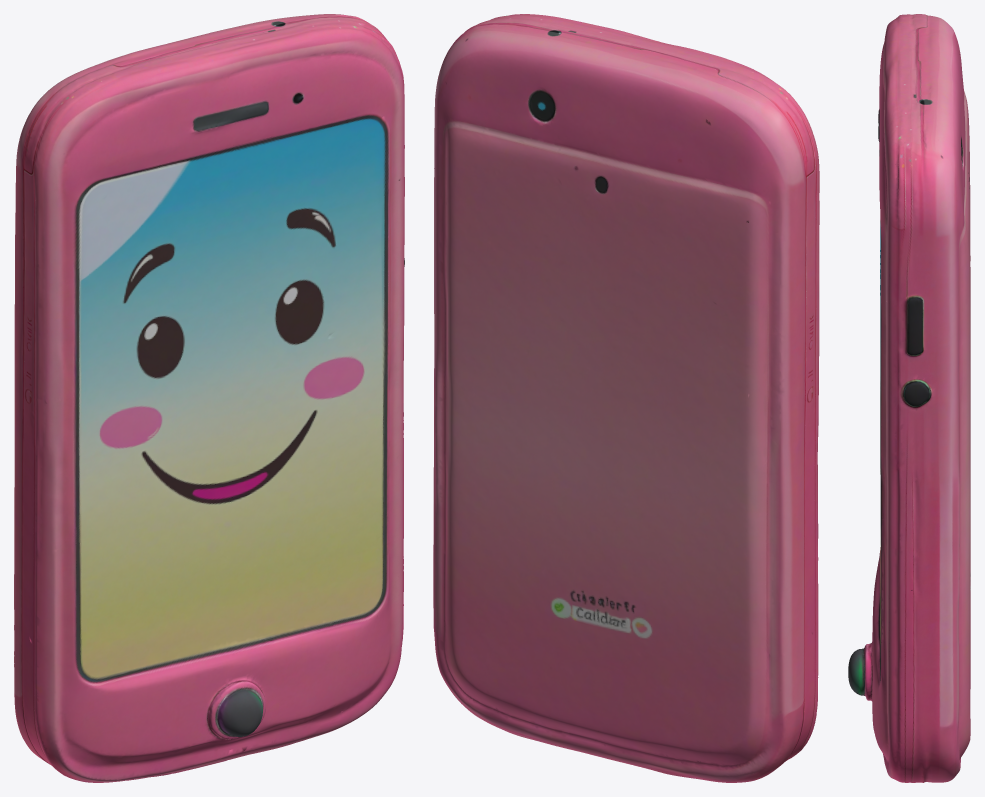
File: phone.glb
3 renders of one model, left to right at view 1: azimuth 30°, elevation 25°; view 2: azimuth 150°, elevation 25°; view 3: azimuth 270°, elevation 25°, orthographic. The views are drawn at different scales.
Size of the model in its own units: 35892 by 65534 by 10992.
Materials: 1 (1 with a texture image).
